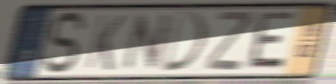D: (159, 10, 211, 75)
E: (242, 10, 297, 74)
K: (83, 12, 128, 73)
N: (119, 12, 175, 73)
S: (41, 9, 91, 77)
Z: (203, 9, 257, 74)
